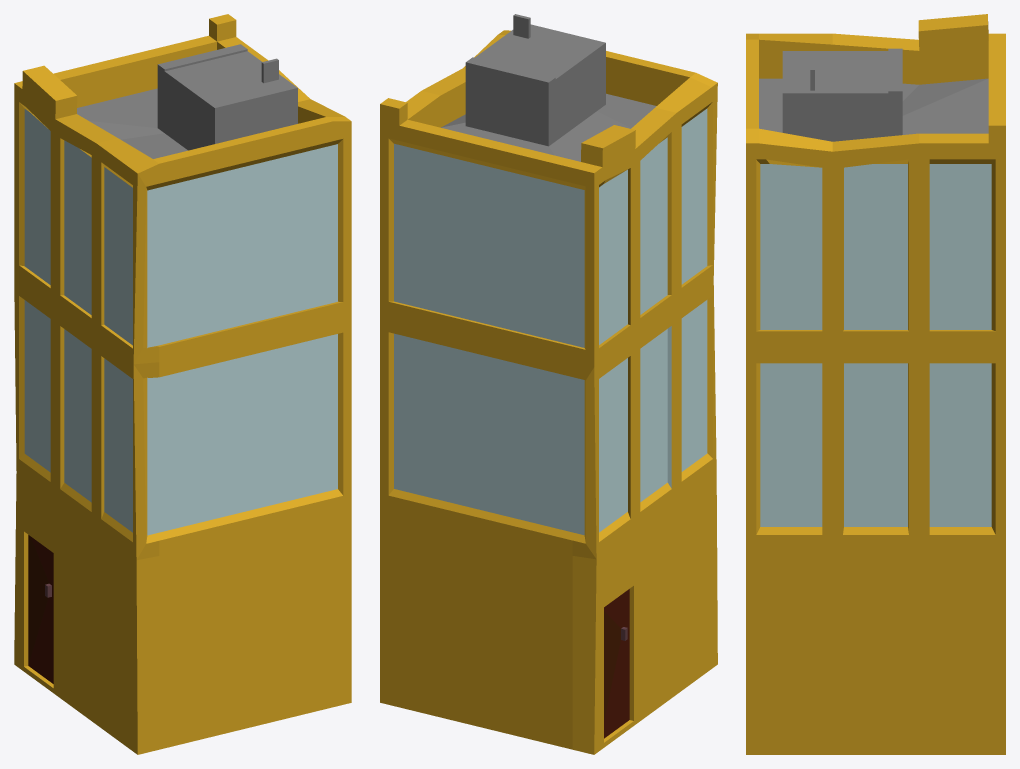
Rendered from skyscraper1.fbx.
3 views of the same model, side by side, from view 1: azimuth 30°, elevation 25°; view 2: azimuth 150°, elevation 25°; view 3: azimuth 270°, elevation 25° (orthographic). The views are drawn at different scales.
Parts seen in each view (by area): view 1: Building_1.002; view 2: Building_1.002; view 3: Building_1.002.
Boxes of the visible parts, <box> form: Building_1.002: <box>14,14,351,754</box>; Building_1.002: <box>380,14,717,754</box>; Building_1.002: <box>746,14,1005,754</box>.
Bounding box in the file's own units: 200 × 563 × 200.
